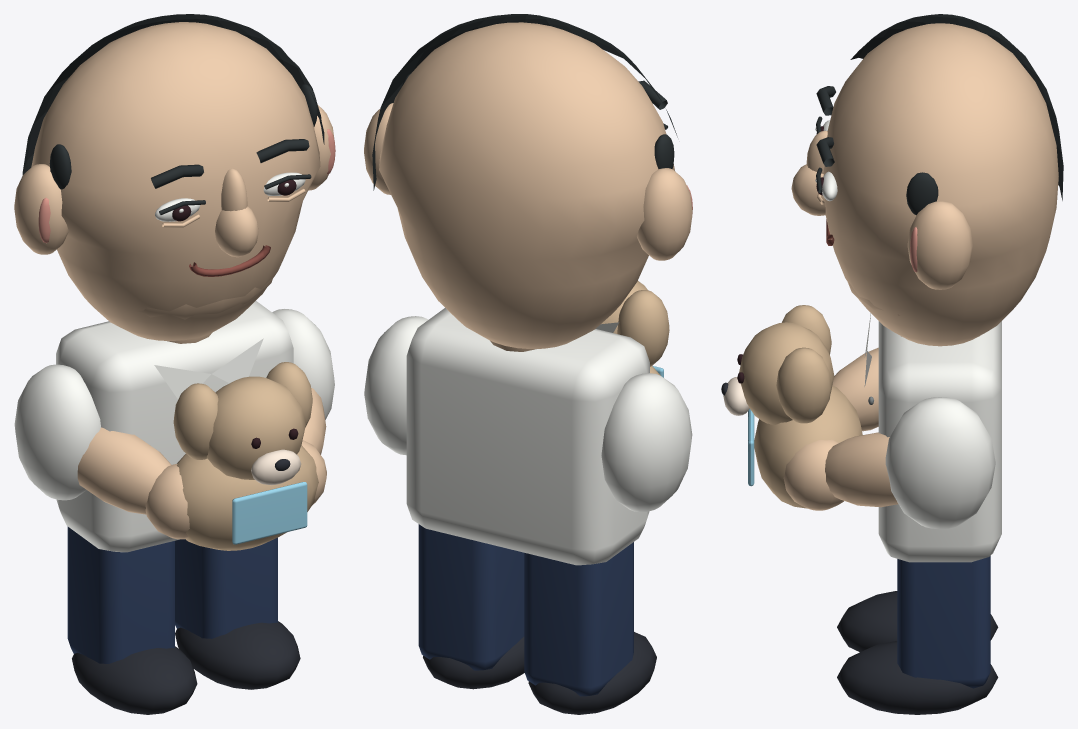
The model's file is longlong-10.glb.
The picture shows the model from 3 angles, left to right: view 1: azimuth 30°, elevation 25°; view 2: azimuth 150°, elevation 25°; view 3: azimuth 270°, elevation 25°; orthographic projection. The views are drawn at different scales.
Parts seen in each view (by area): view 1: Trousers, Side-swept hair; view 2: Trousers, Side-swept hair; view 3: Trousers, Side-swept hair.
Part boxes in pixels (<box>): Trousers: <box>14,22,335,714</box>; Side-swept hair: <box>22,14,324,399</box>; Trousers: <box>364,22,692,714</box>; Side-swept hair: <box>372,14,677,332</box>; Trousers: <box>721,23,1058,714</box>; Side-swept hair: <box>850,14,1063,386</box>.
Bounding box in the file's own units: 1.49 × 3 × 1.42.
2 materials, 2 textured.
